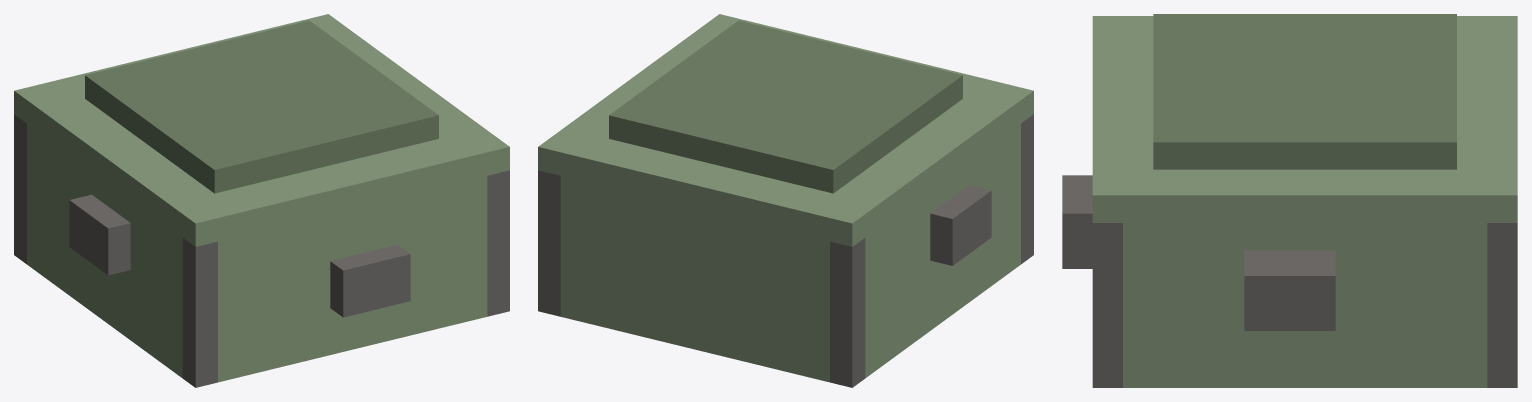
File: cajon_verduras_frescas_01.glb
3 views of the same model, side by side, from view 1: azimuth 30°, elevation 25°; view 2: azimuth 150°, elevation 25°; view 3: azimuth 270°, elevation 25° (orthographic). The views are drawn at different scales.
Parts seen in each view (by area): view 1: cajon_verduras_frescas; view 2: cajon_verduras_frescas; view 3: cajon_verduras_frescas.
Part boxes in pixels (x1,y1,x2,y2): cajon_verduras_frescas: (14, 14, 509, 387); cajon_verduras_frescas: (538, 14, 1033, 387); cajon_verduras_frescas: (1062, 14, 1517, 387).
Bounding box in the file's own units: 1.21 × 0.5714 × 1.07.
